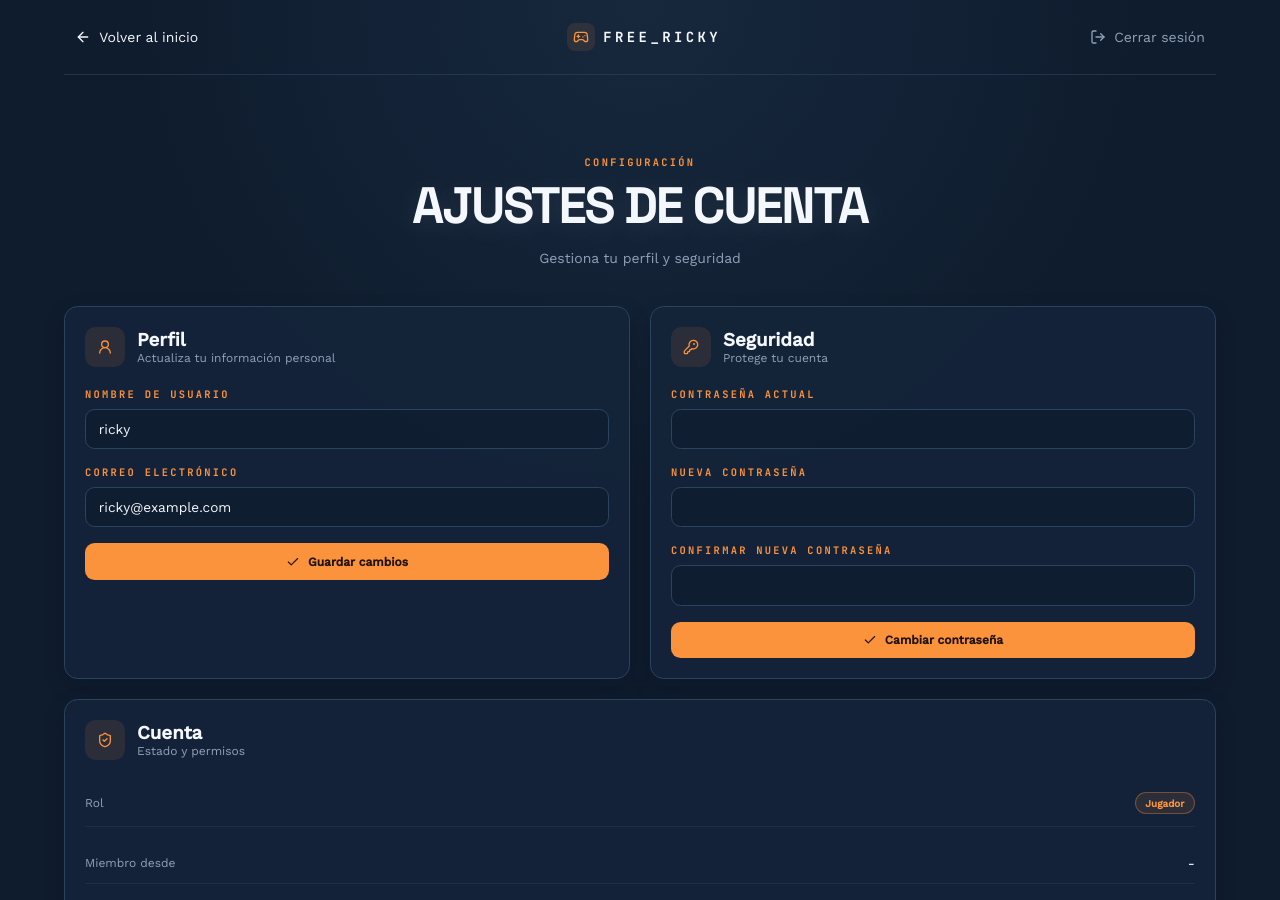
Test: Settings › guarda los datos reales del perfil y sincroniza el contexto
This screenshot has width=1280, height=900.
Replace the text in the field showing "ricky" with "ricky_atrevido". click: (347,429)
box: [85, 409, 609, 449]
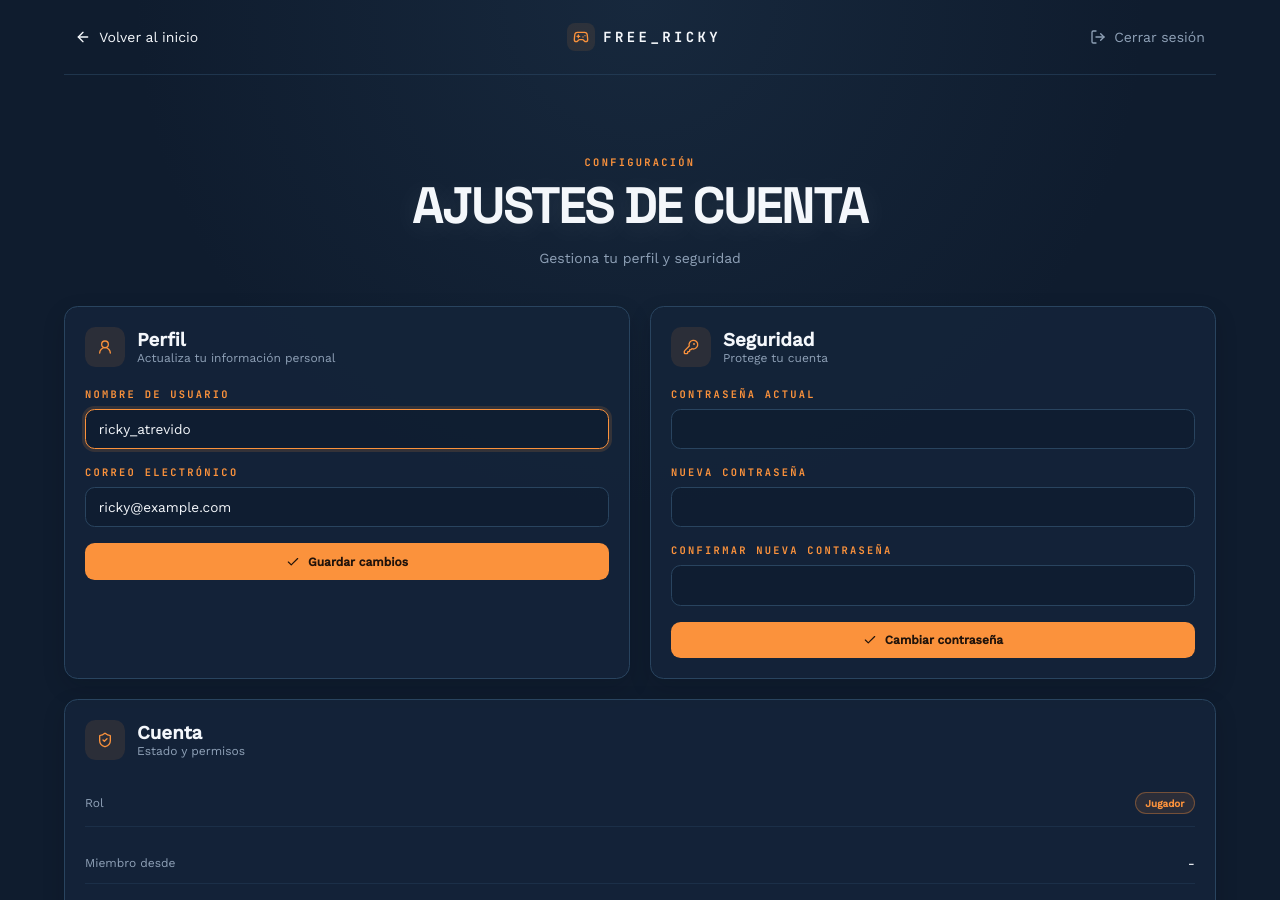
Click the button "Guardar cambios". click: (347,562)
box: [85, 543, 609, 580]
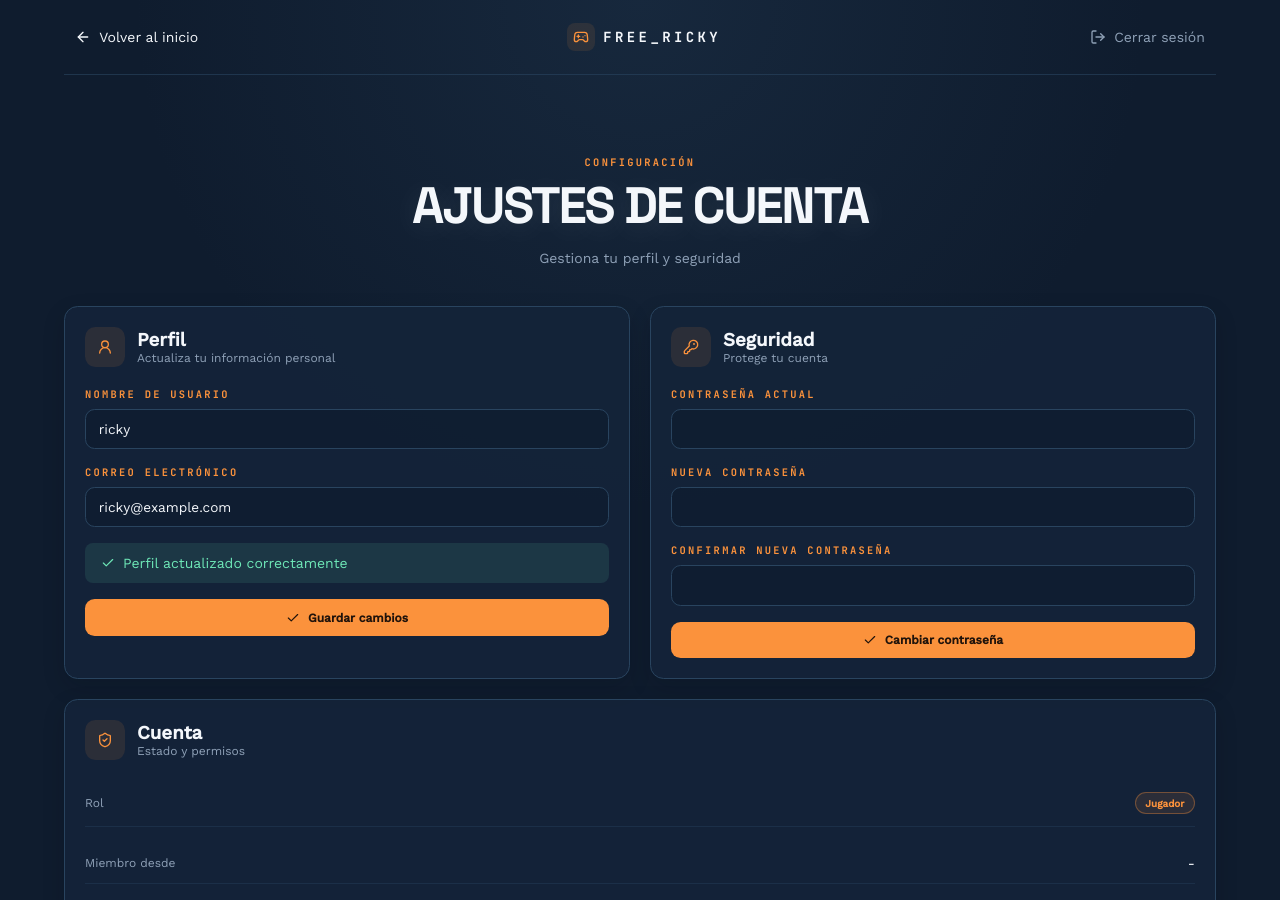
Result: the text "Perfil actualizado correctamente" is shown at [123, 555, 348, 571]
